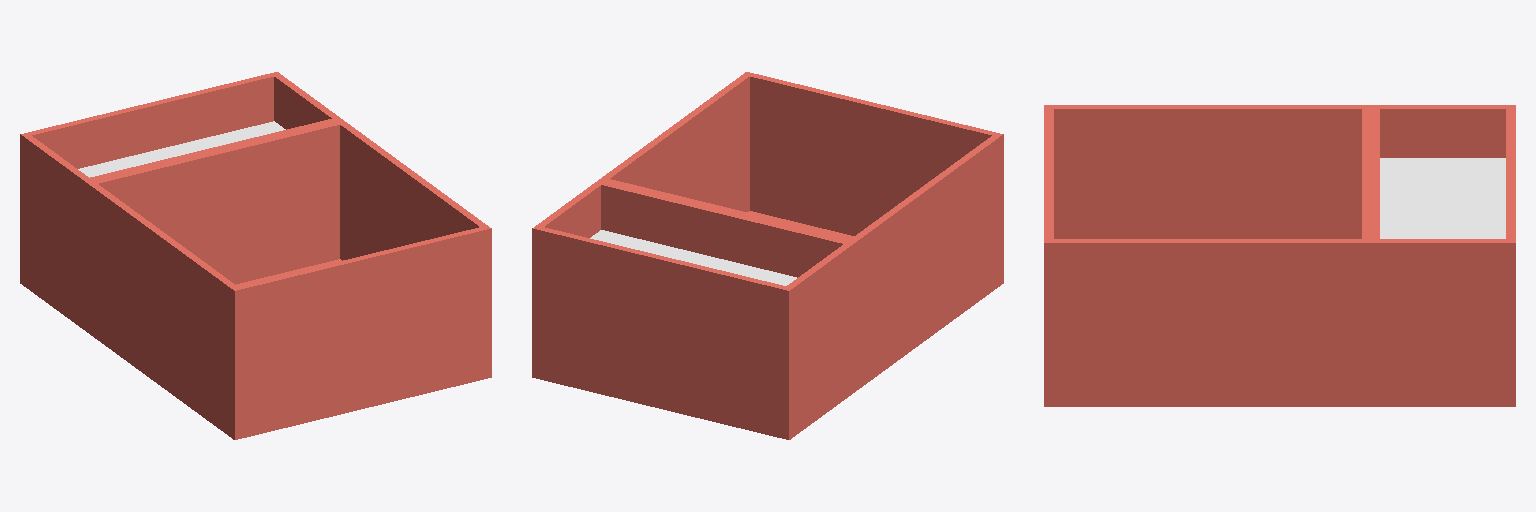
robot.urdf — lunchbox:
<?xml version="1.0"?>
<robot name="lunchbox"
       xmlns:xi="http://www.w3.org/2001/XInclude">
  <gazebo>
    <static>false</static>
  </gazebo>
  <link name="nil_link">
    <visual>
      <origin xyz="0 0 0" rpy="0 -0 0"/>
      <geometry>
        <mesh filename="model://lunchbox/meshes/nil_link_mesh.dae" scale="1 1 1" />
      </geometry>
    </visual>
    <collision>
      <origin xyz="0 0 0" rpy="0 -0 0"/>
      <geometry>
        <mesh filename="model://lunchbox/meshes/nil_link_mesh.dae" scale="1 1 1" />
      </geometry>
    </collision>
    <inertial>
      <mass value="0.001" />
      <origin xyz="0 0 0" rpy="0 -0 0"/>
      <inertia ixx="1e-03" ixy="0" ixz="0" iyy="1e-03" iyz="0" izz="1e-03"/>
    </inertial>
  </link>
  <gazebo reference="nil_link">
    <mu1>0.9</mu1>
    <mu2>0.9</mu2>
  </gazebo>
</robot>

--- Facts derived from the render (not from the file) ---
Views: 3 orthographic renders of the robot side by side, from view 1: azimuth 30°, elevation 25°; view 2: azimuth 150°, elevation 25°; view 3: azimuth 270°, elevation 25°.
Model lunchbox with 1 links and 0 joints (none), rooted at nil_link, posed every joint at zero.
Links seen in each view (by area): view 1: nil_link; view 2: nil_link; view 3: nil_link.
Boxes of the visible links, left/top/right/bottom form: nil_link: left=20, top=72, right=491, bottom=439; nil_link: left=532, top=72, right=1003, bottom=439; nil_link: left=1044, top=105, right=1515, bottom=406.
Bounding box of the posed robot: 0.18 × 0.26 × 0.1 m (x, y, z).
Meshes: 1 distinct files referenced, 1 mesh visuals loaded (1 Collada DAE).